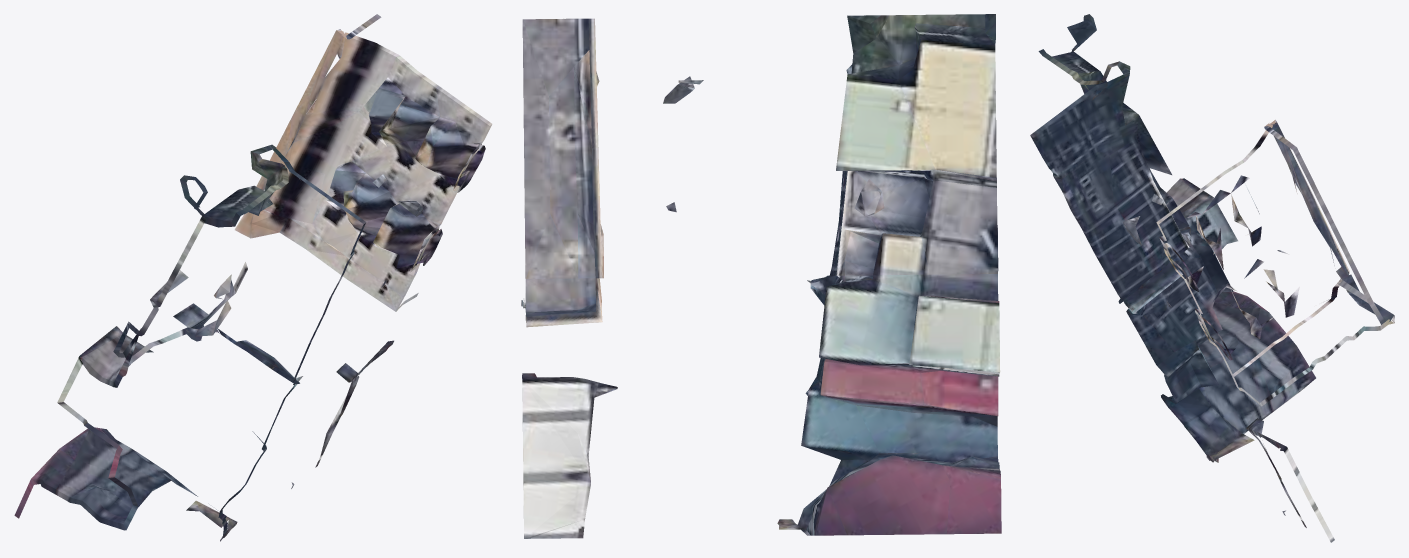
The picture shows the model from 3 angles, left to right: view 1: azimuth 30°, elevation 25°; view 2: azimuth 150°, elevation 25°; view 3: azimuth 270°, elevation 25°; orthographic projection. The views are drawn at different scales.
Size of the model in its own units: 42.07 by 41.23 by 32.94.
Materials: 1 (1 with a texture image).
